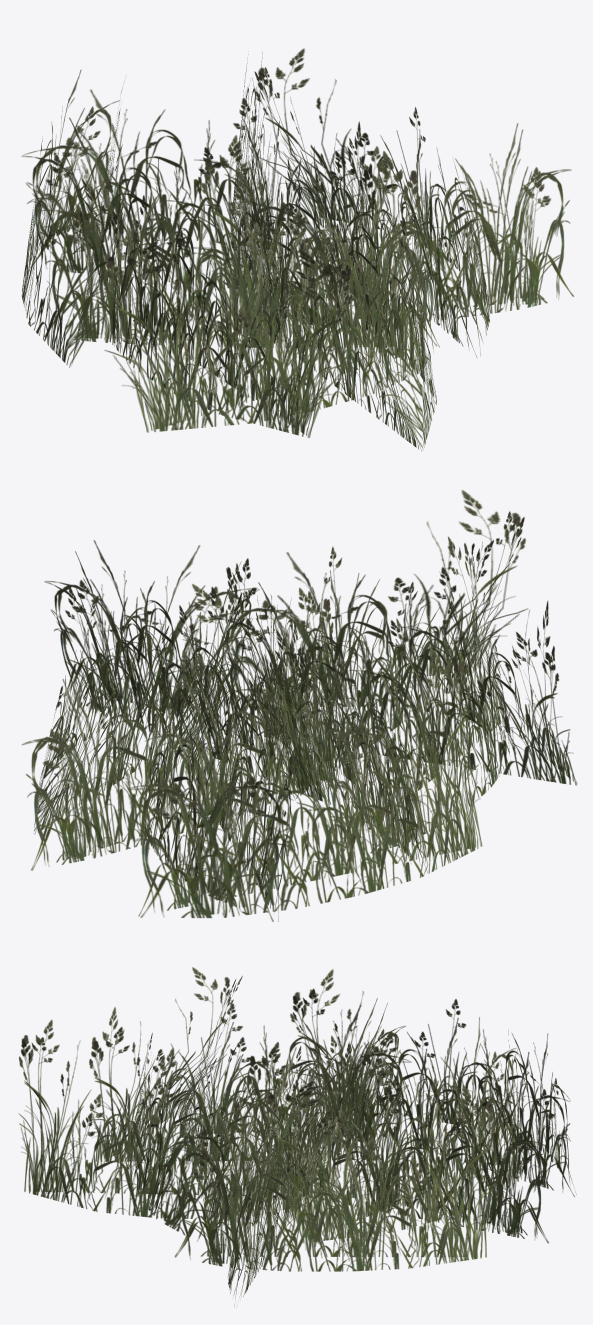
Rendered from grass01.glb.
The picture shows the model from 3 angles, top to bottom: view 1: azimuth 30°, elevation 25°; view 2: azimuth 150°, elevation 25°; view 3: azimuth 270°, elevation 25°; orthographic projection. The views are drawn at different scales.
Visible parts, largest first — view 1: Grass01_LOD0; view 2: Grass01_LOD0; view 3: Grass01_LOD0.
Part boxes in pixels (left/top/right/bottom): Grass01_LOD0: left=21, top=48, right=573, bottom=451; Grass01_LOD0: left=22, top=490, right=577, bottom=921; Grass01_LOD0: left=18, top=967, right=576, bottom=1307.
Bounding box in the file's own units: 3.73 × 1.41 × 4.29.
1 material, 1 textured.
